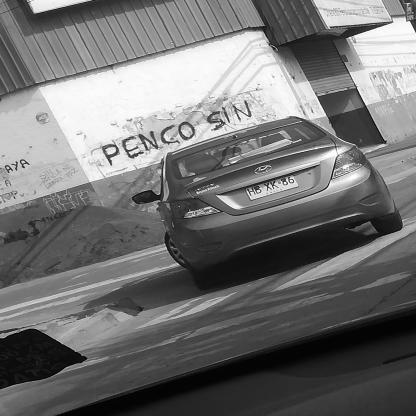Patente: (242, 173, 302, 202)
